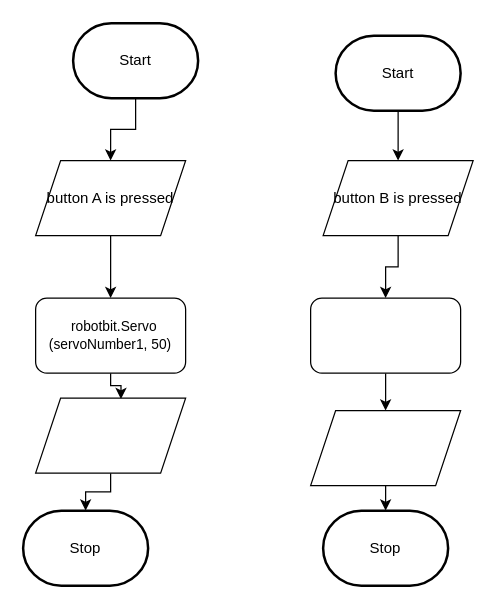
This 495x608 diagram has some shape labels left out. The centre of each missing label's shape, as x and y in pixels:
robotbit.Servo (servoNumber1, 180): the point at 385,335
servo turns 180 degrees: the point at 385,447
servo turns 50 degrees: the point at 110,435
